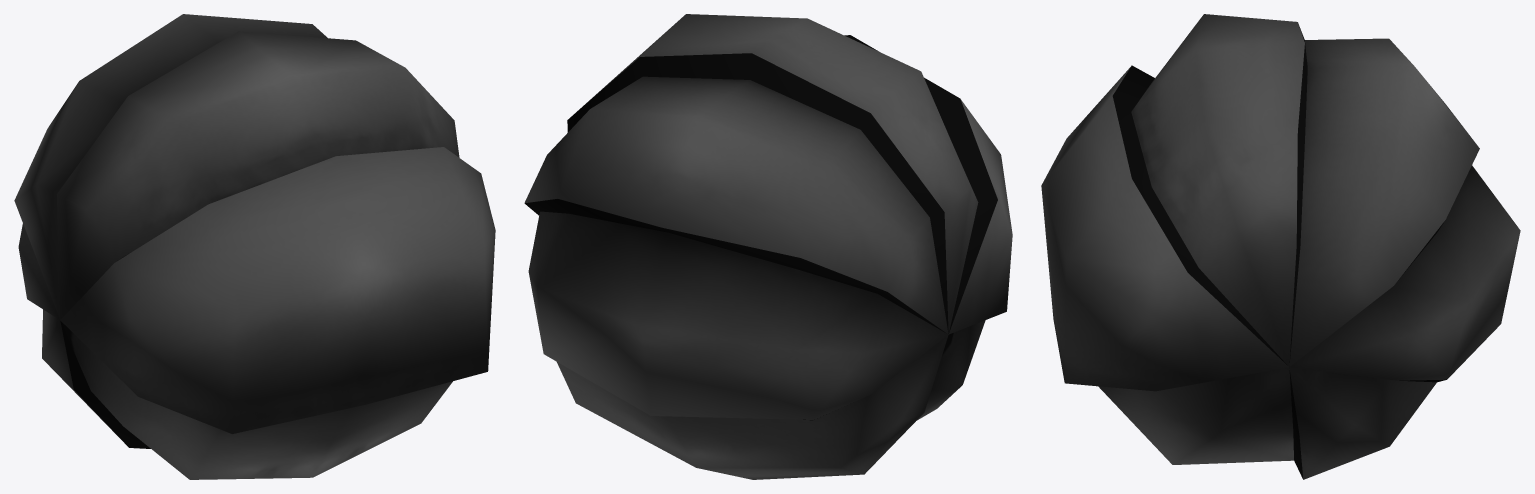
The model's file is dango_maru.fbx.
3 views of the same model, side by side, from view 1: azimuth 30°, elevation 25°; view 2: azimuth 150°, elevation 25°; view 3: azimuth 270°, elevation 25° (orthographic). The views are drawn at different scales.
Visible parts, largest first — view 1: 平面.006; view 2: 平面.006; view 3: 平面.006.
Boxes of the visible parts, x1,y1,x2,y2 form: 平面.006: (14, 14, 495, 479); 平面.006: (524, 14, 1012, 479); 平面.006: (1041, 14, 1520, 479).
Size of the model in its own units: 248 by 268 by 280.
Materials: 1 (1 with a texture image).
